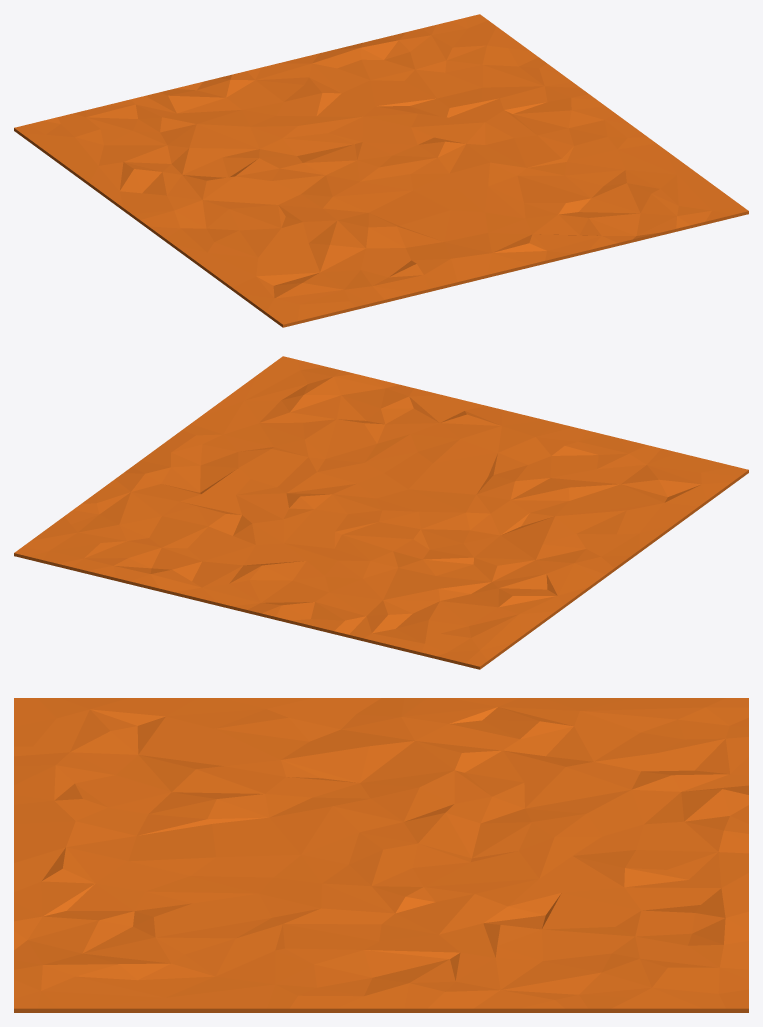
Rendered from PlanetFloorOrange_01.glb.
3 renders of one model, top to bottom at view 1: azimuth 30°, elevation 25°; view 2: azimuth 150°, elevation 25°; view 3: azimuth 270°, elevation 25°, orthographic. The views are drawn at different scales.
Parts seen in each view (by area): view 1: PlanetFloorOrange_01; view 2: PlanetFloorOrange_01; view 3: PlanetFloorOrange_01.
Part boxes in pixels (x1,y1,x2,y2): PlanetFloorOrange_01: (14, 14, 748, 327); PlanetFloorOrange_01: (14, 356, 748, 669); PlanetFloorOrange_01: (14, 698, 748, 1012).
Size of what is drawn, in the model's own units: 16 by 0.2405 by 16.
Materials: 1 (1 with a texture image).
